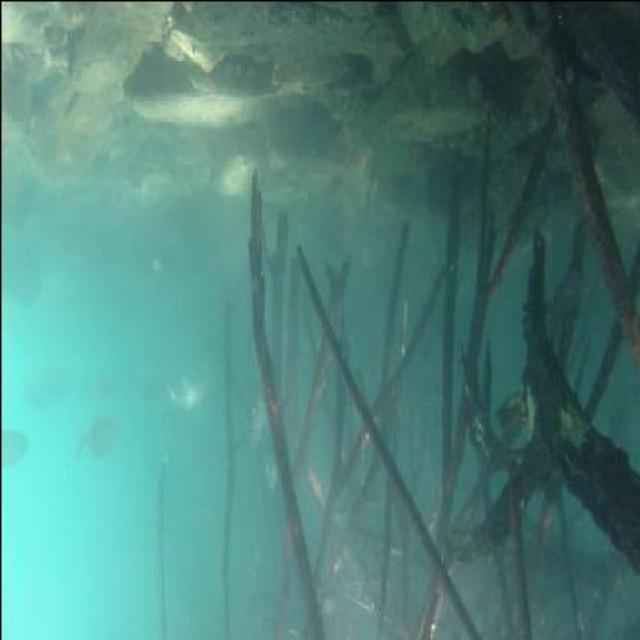Caranx_sexfasciatus_juvenile: (68, 404, 127, 459), (24, 360, 71, 411), (160, 364, 203, 418)
